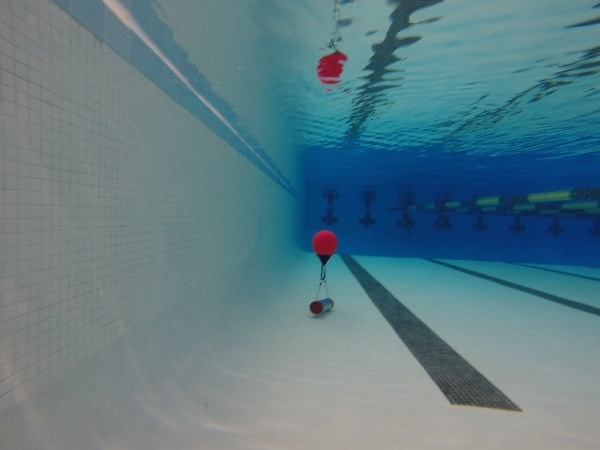buoy_red: (310, 228, 338, 264)
